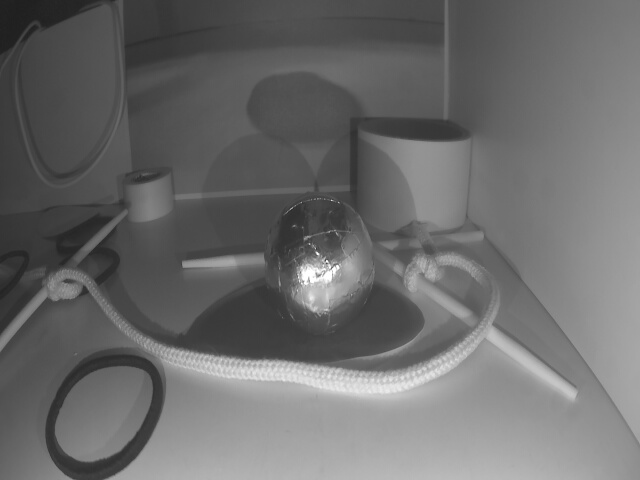Live: (263, 197, 373, 336)
